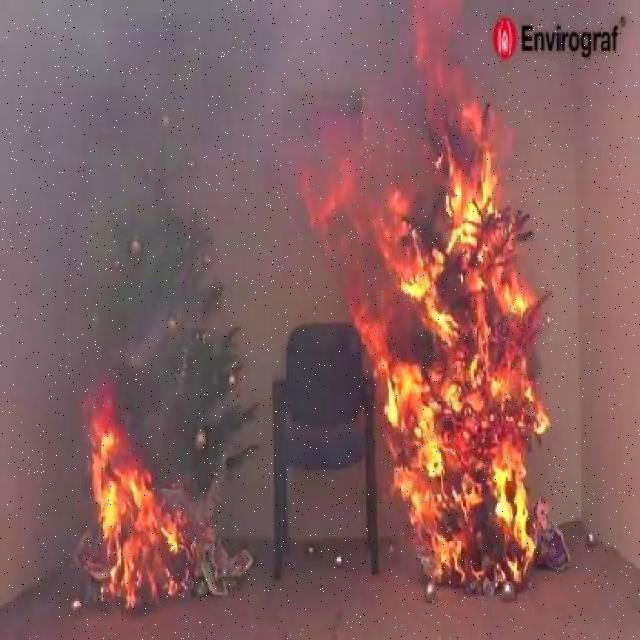fire: (297, 0, 607, 592), (75, 379, 222, 611)
